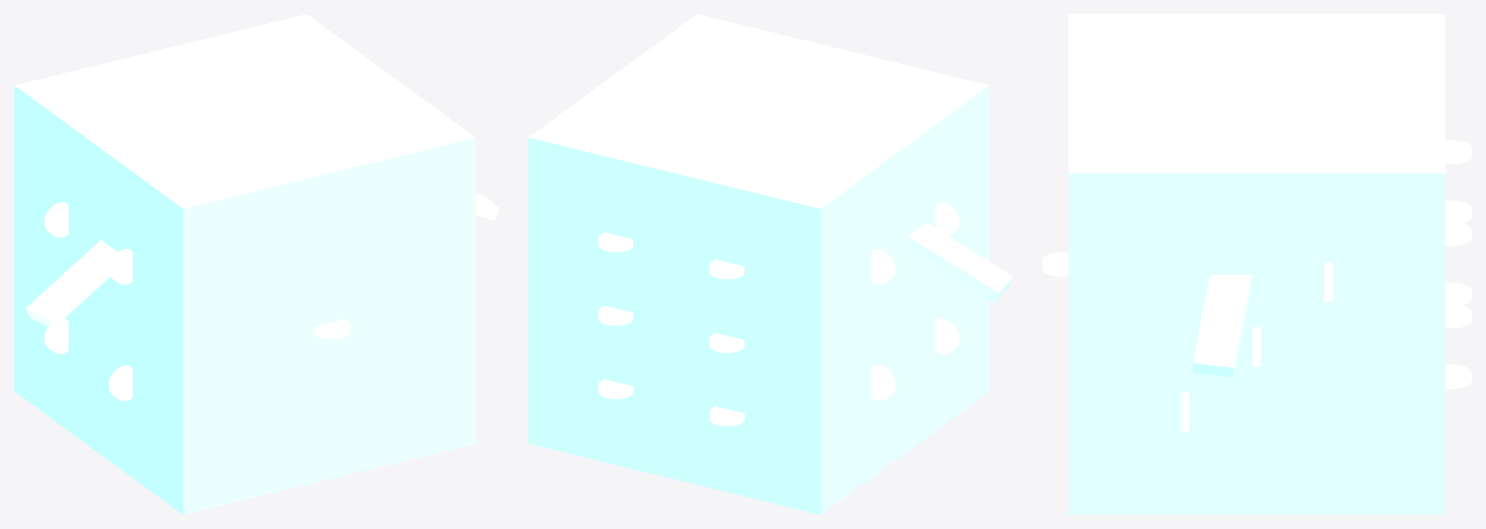
File: Dice_Eagle.gltf
3 renders of one model, left to right at view 1: azimuth 30°, elevation 25°; view 2: azimuth 150°, elevation 25°; view 3: azimuth 270°, elevation 25°, orthographic. The views are drawn at different scales.
Parts seen in each view (by area): view 1: Dice_Eagle_body, eagle_left_wing, pip_4 (×4), pip_2 (×2), pip_1; view 2: Dice_Eagle_body, eagle_left_wing, pip_6 (×6), pip_4 (×4), pip_2 (×2); view 3: Dice_Eagle_body, eagle_right_wing, pip_6 (×6), pip_1.
Boxes of the visible parts, x1,y1,x2,y2 form: Dice_Eagle_body: (14, 14, 475, 514); eagle_left_wing: (25, 240, 117, 328); pip_4 (×4): (44, 202, 132, 400); pip_2 (×2): (204, 51, 285, 153); pip_1: (315, 319, 349, 339); Dice_Eagle_body: (528, 14, 989, 514); eagle_left_wing: (907, 222, 1013, 302); pip_6 (×6): (598, 232, 744, 426); pip_4 (×4): (871, 202, 959, 400); pip_2 (×2): (654, 78, 863, 126); Dice_Eagle_body: (1068, 14, 1445, 514); eagle_right_wing: (1192, 275, 1251, 377); pip_6 (×6): (1445, 140, 1471, 388); pip_1: (1042, 252, 1068, 276).
Size of the model in its own units: 3.15 by 2.28 by 2.28.
